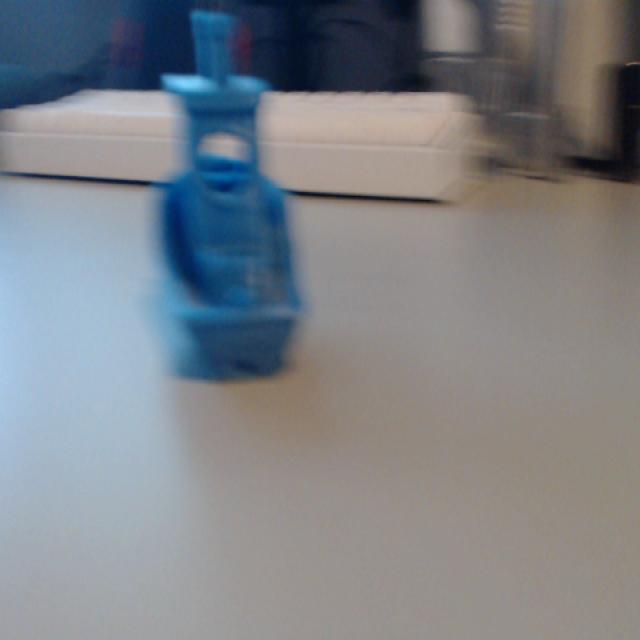benchy: (151, 8, 307, 381)
